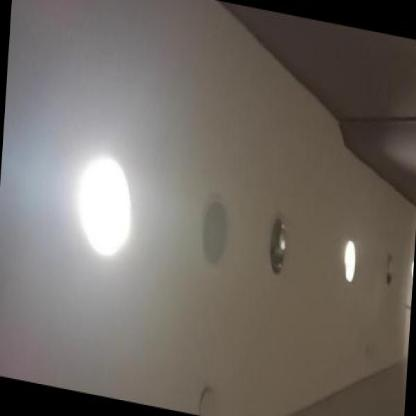light_off: (259, 187, 298, 292), (374, 237, 400, 301)
